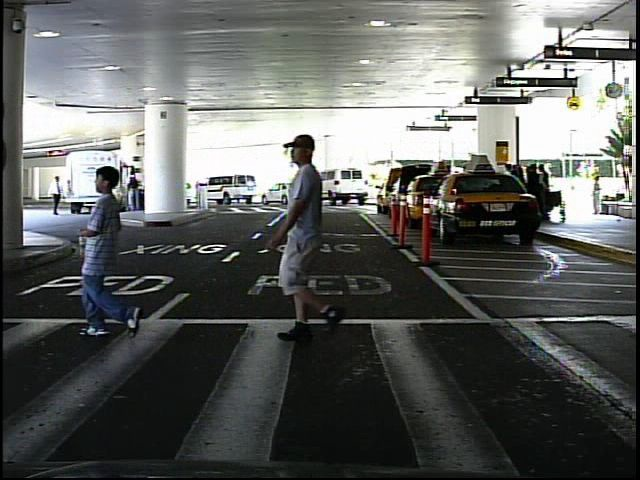person: (267, 125, 367, 346), (74, 156, 160, 345), (48, 171, 67, 221), (588, 172, 607, 218)
